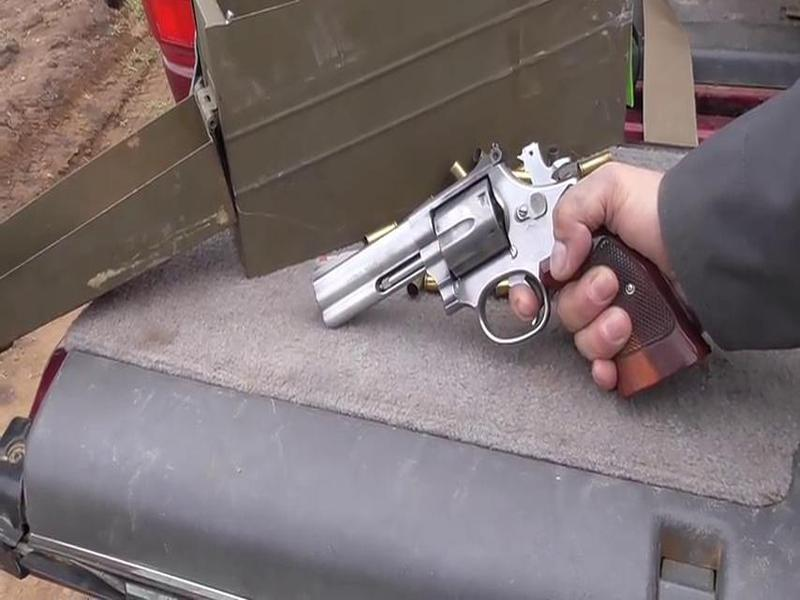Revolver: (305, 124, 730, 412)
